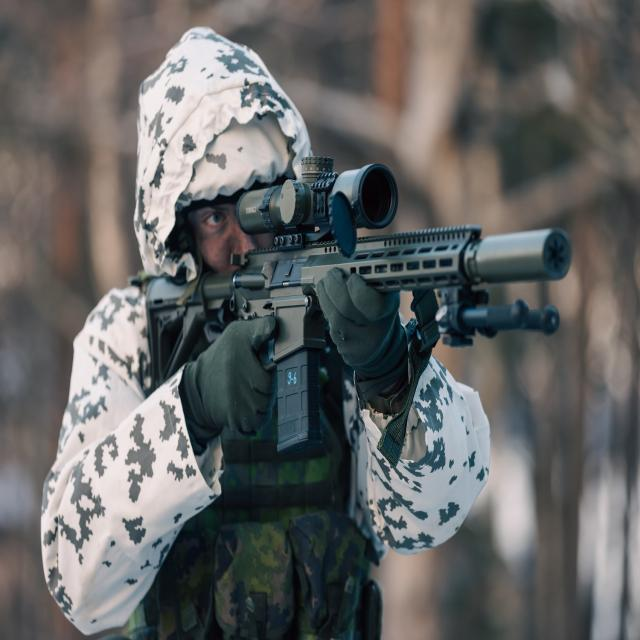Rifle: (145, 158, 573, 458)
